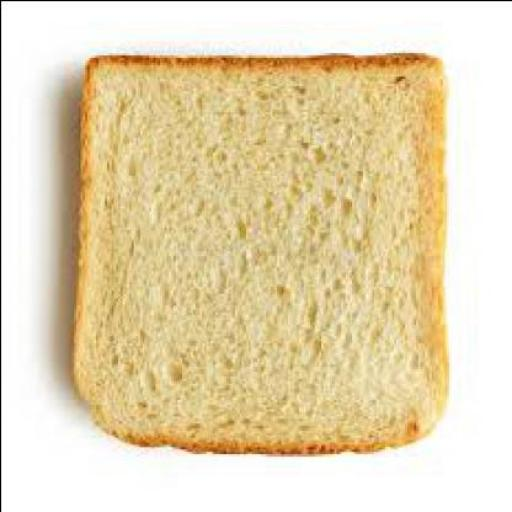biodegradable: (71, 56, 452, 456)
